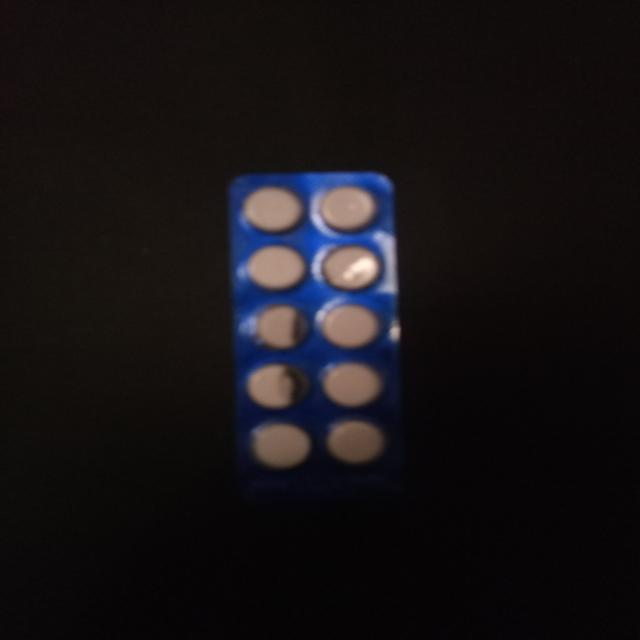defect: (243, 360, 313, 412), (245, 301, 314, 353)
